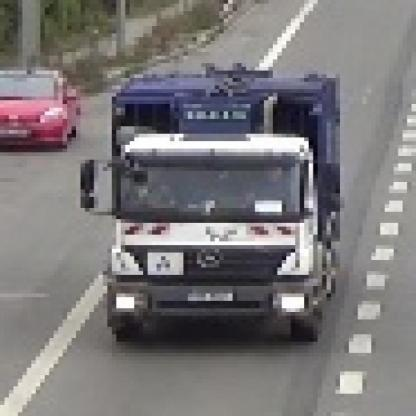truck: (86, 60, 354, 343)
